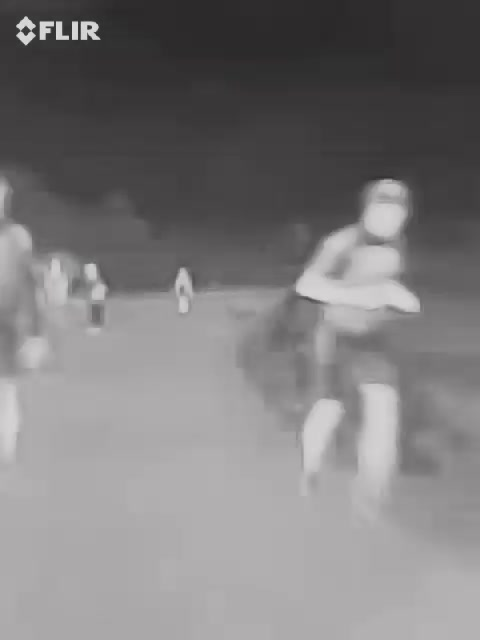head: (357, 171, 421, 246)
